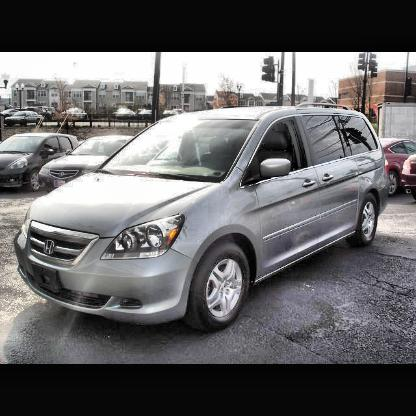Honda Odyssey Minivan 2007: (16, 104, 391, 315)
